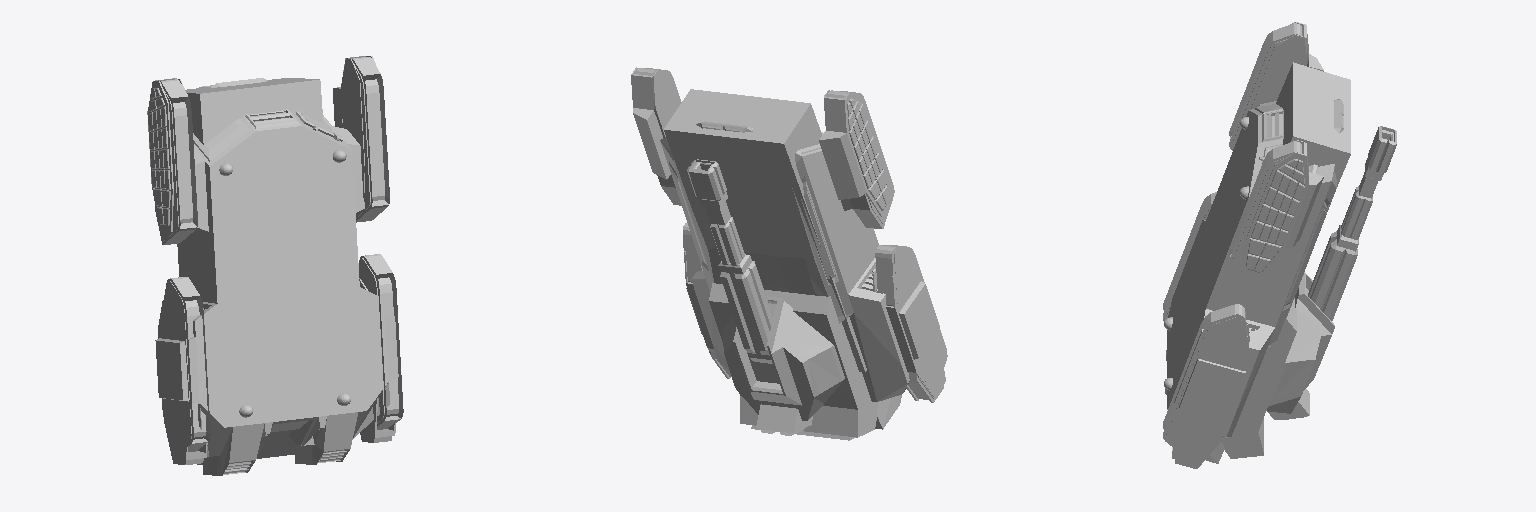
The model's file is tank_3.obj.
3 renders of one model, left to right at view 1: azimuth 30°, elevation 25°; view 2: azimuth 150°, elevation 25°; view 3: azimuth 270°, elevation 25°, orthographic.
Parts seen in each view (by area): view 1: Cube_Cube.002, Orugas_2_Cubo.004, Orugas_Cubo, Cube_Cube.001, Cubre_Orugas_2_Cube.001, Cubre_Orugas_Cube, Centro_Cubo.001; view 2: Cube_Cube.002, Cube_Cube.001, Torreta_Cubo.002, Cubre_Orugas_2_Cube.001, Centro_Cubo.001, Orugas_Cubo, Cañon.001_Cubo.009, Cubre_Orugas_Cube, Orugas_2_Cubo.004, Cañon_Cubo.003, Cañon.003_Cubo.011, Cañon.002_Cubo.010; view 3: Cube_Cube.002, Cubre_Orugas_2_Cube.001, Orugas_Cubo, Cube_Cube.001, Torreta_Cubo.002, Orugas_2_Cubo.004, Centro_Cubo.001, Cañon.001_Cubo.009, Cañon.002_Cubo.010, Cañon.003_Cubo.011, Cañon_Cubo.003.
Part boxes in pixels (x1,y1,x2,y2): Cube_Cube.002: (155,78,398,475); Orugas_2_Cubo.004: (155,57,389,244); Orugas_Cubo: (161,254,403,454); Cube_Cube.001: (185,78,323,144); Cubre_Orugas_2_Cube.001: (147,56,376,231); Cubre_Orugas_Cube: (158,278,395,464); Centro_Cubo.001: (197,430,295,464); Cube_Cube.002: (660,121,939,429); Cube_Cube.001: (664,89,866,371); Torreta_Cubo.002: (722,296,844,435); Cubre_Orugas_2_Cube.001: (631,67,891,216); Centro_Cubo.001: (709,283,877,440); Orugas_Cubo: (683,223,947,398); Cañon.001_Cubo.009: (720,261,772,355); Cubre_Orugas_Cube: (684,251,945,402); Orugas_2_Cubo.004: (636,68,894,228); Cañon_Cubo.003: (693,162,772,363); Cañon.003_Cubo.011: (687,159,726,200); Cañon.002_Cubo.010: (710,217,744,265); Cube_Cube.002: (1165,99,1343,463); Cubre_Orugas_2_Cube.001: (1241,22,1323,277); Orugas_Cubo: (1163,192,1249,465); Cube_Cube.001: (1276,62,1350,186); Torreta_Cubo.002: (1267,272,1334,419); Orugas_2_Cubo.004: (1229,23,1302,289); Centro_Cubo.001: (1221,298,1296,458); Cañon.001_Cubo.009: (1308,231,1357,320); Cañon.002_Cubo.010: (1341,186,1372,239); Cañon.003_Cubo.011: (1368,126,1396,173); Cañon_Cubo.003: (1322,130,1393,308).
Bounding box in the file's own units: 3.17 × 4.62 × 2.58.